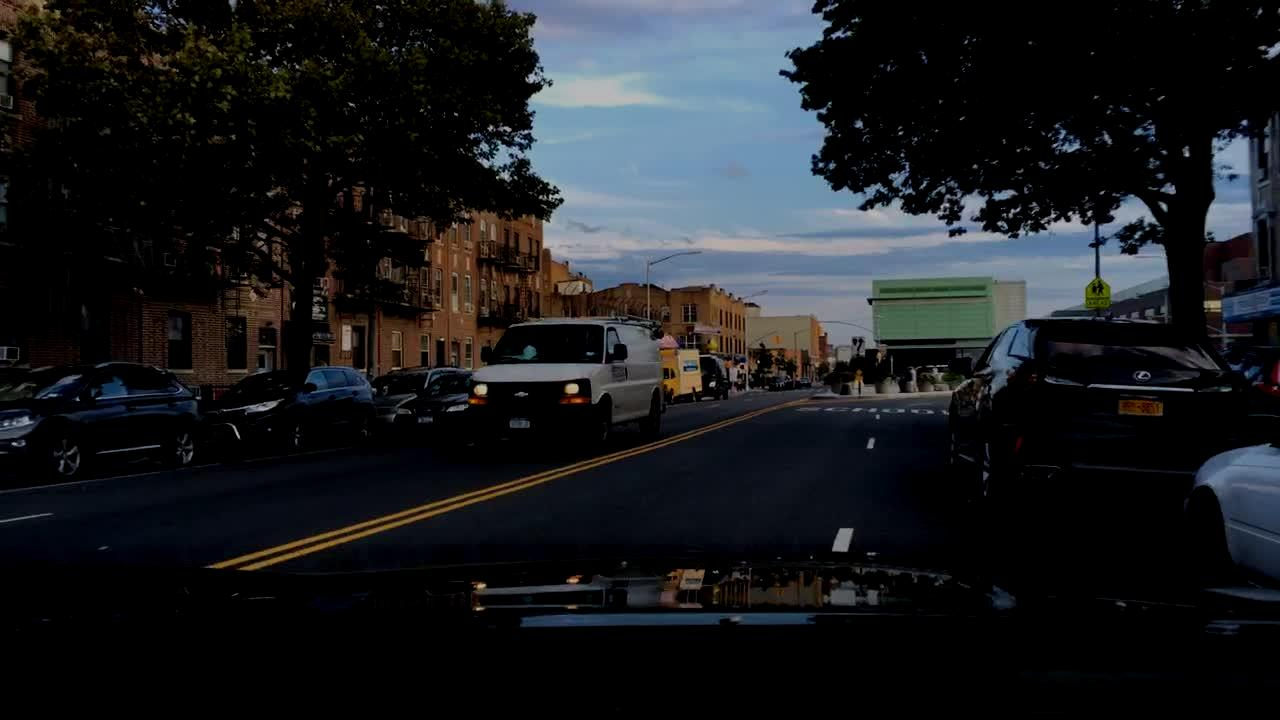chevrolet: (510, 387, 536, 400)
lexus: (1125, 363, 1160, 386)
